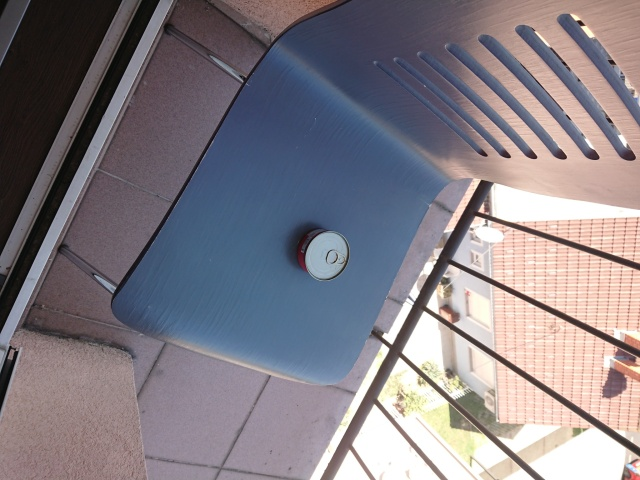Gavrilovic Pork Liver Pate 100g: (294, 226, 351, 283)
